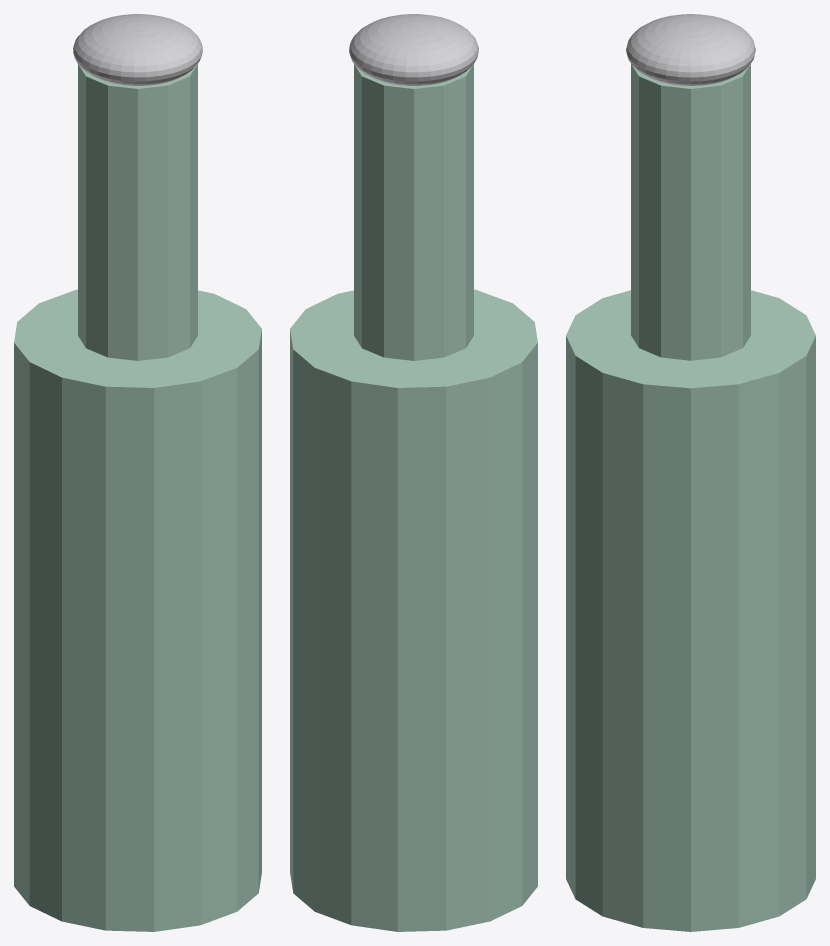
File: Bottle.fbx
The picture shows the model from 3 angles, left to right: view 1: azimuth 30°, elevation 25°; view 2: azimuth 150°, elevation 25°; view 3: azimuth 270°, elevation 25°; orthographic projection.
Parts seen in each view (by area): view 1: Bottle_Body, Bottle_Neck, Bottle_Cap; view 2: Bottle_Body, Bottle_Neck, Bottle_Cap; view 3: Bottle_Body, Bottle_Neck, Bottle_Cap.
Boxes of the visible parts, box(x1,y1,x2,y2) form: Bottle_Body: box(14, 289, 261, 931); Bottle_Neck: box(78, 64, 197, 360); Bottle_Cap: box(73, 14, 202, 85); Bottle_Body: box(290, 289, 537, 931); Bottle_Neck: box(354, 64, 473, 360); Bottle_Cap: box(349, 14, 478, 85); Bottle_Body: box(566, 290, 815, 931); Bottle_Neck: box(631, 64, 750, 360); Bottle_Cap: box(626, 14, 755, 85).
Size of the model in its own units: 5 by 18.82 by 5.
